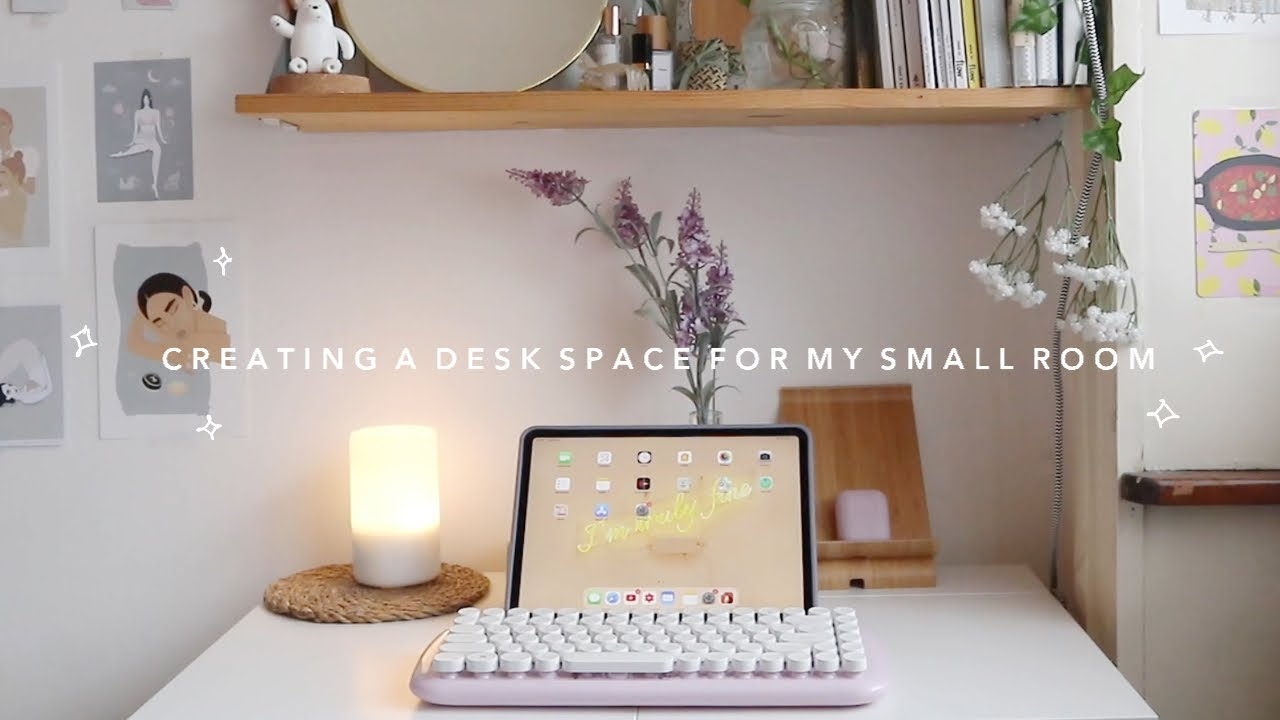not a gesture sign: (468, 397, 969, 720)
